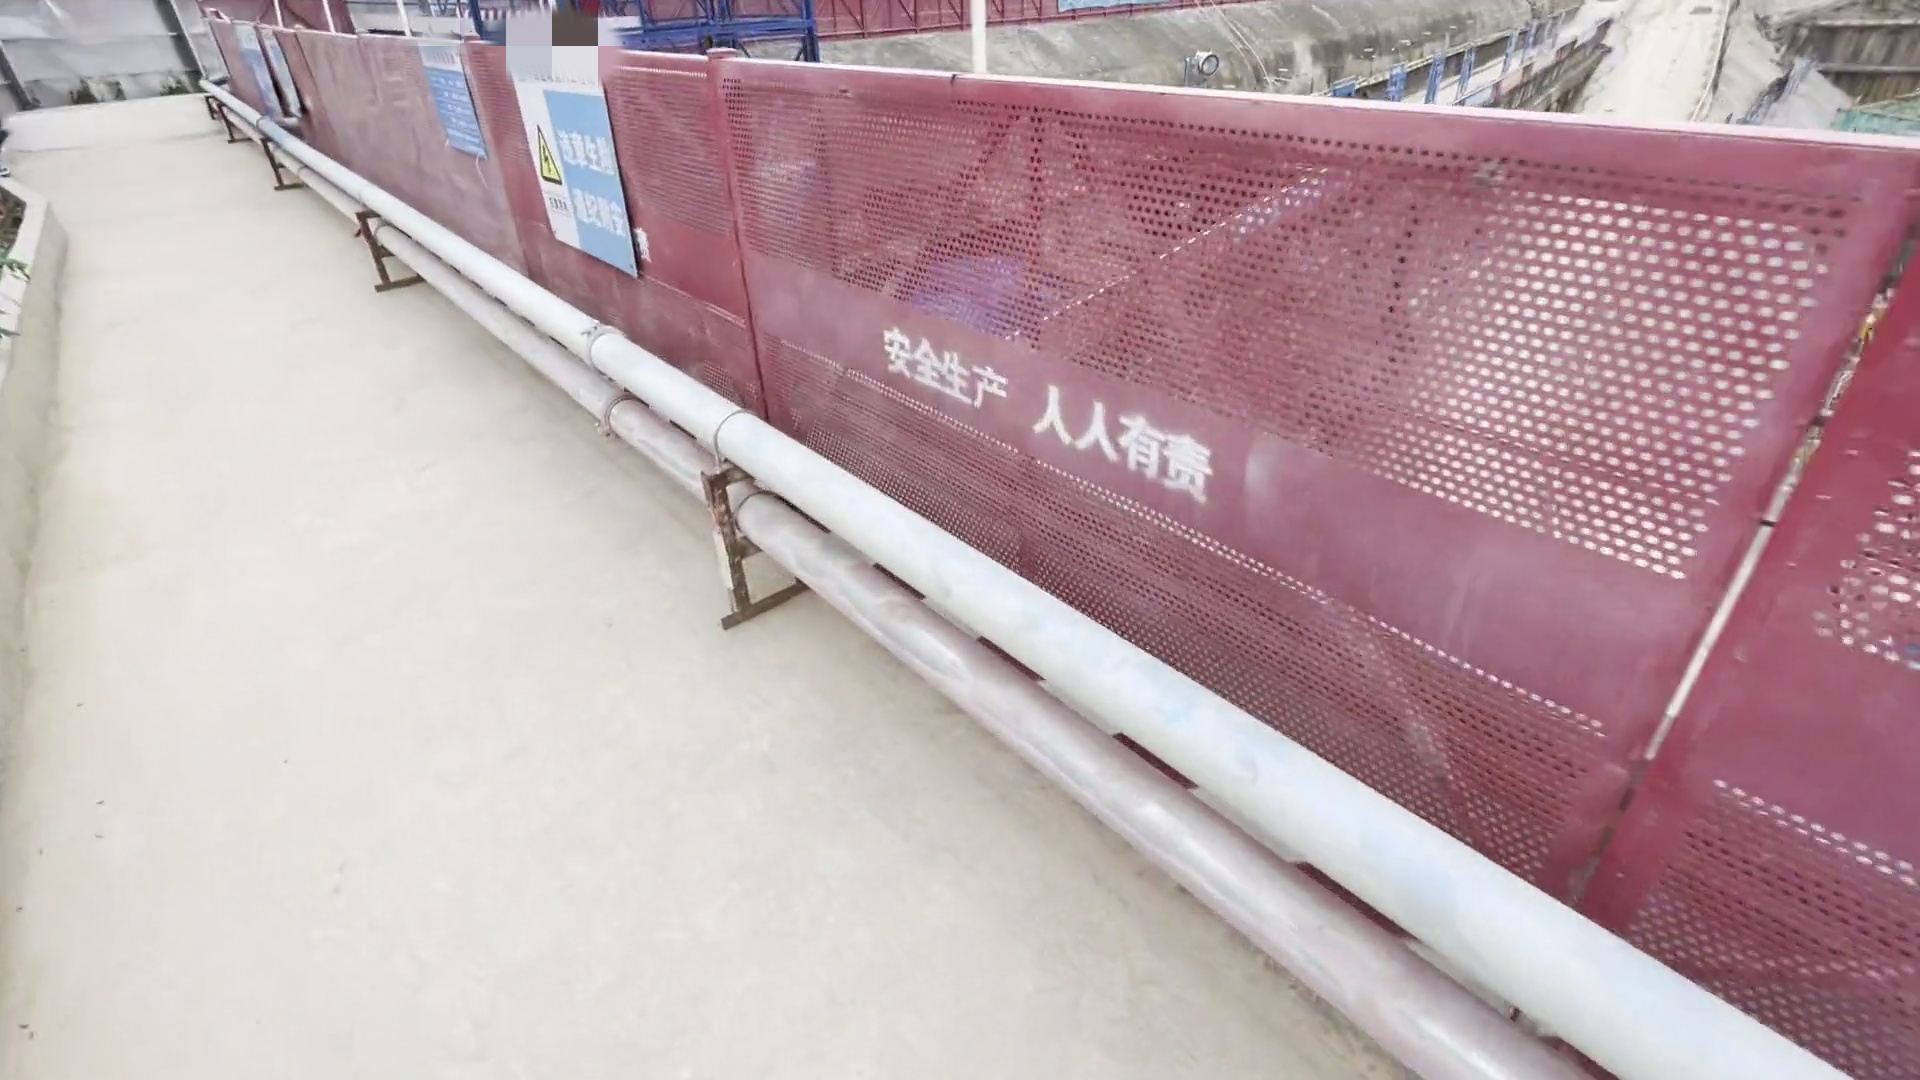fence: (286, 4, 1919, 1065)
slogan: (404, 38, 644, 284), (222, 18, 302, 124)
